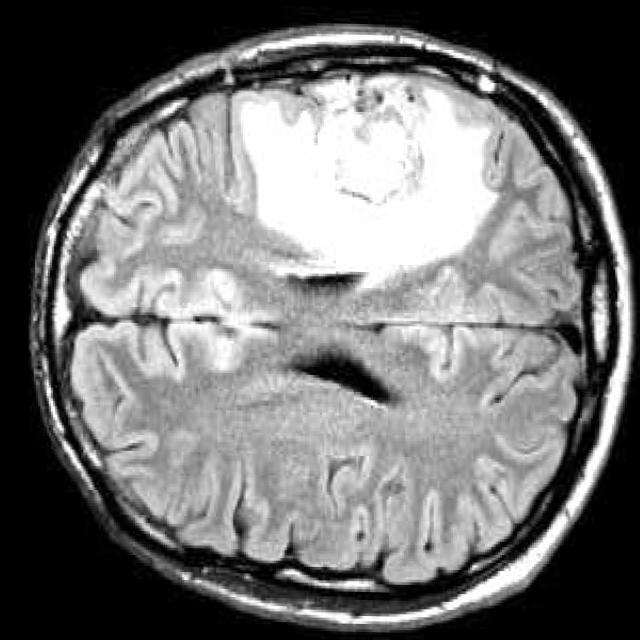Tumor: (229, 71, 498, 276)
